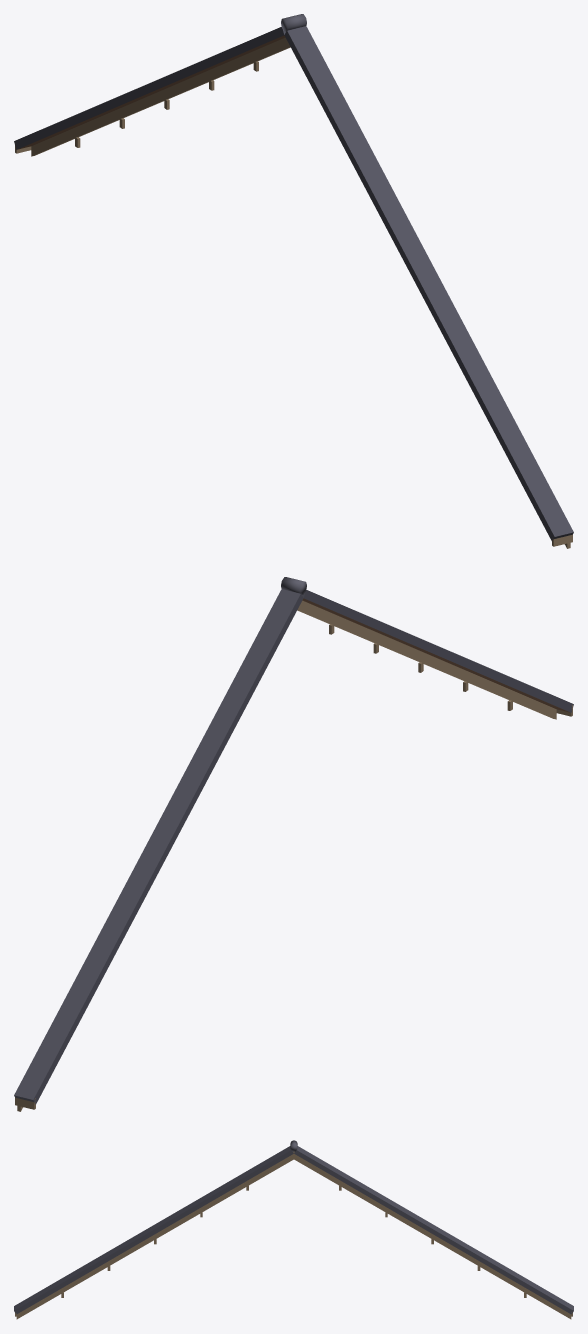
Rendered from kit_clapboard_slate_w10_end.glb.
The picture shows the model from 3 angles, top to bottom: view 1: azimuth 30°, elevation 25°; view 2: azimuth 150°, elevation 25°; view 3: azimuth 270°, elevation 25°; orthographic projection. The views are drawn at different scales.
Parts seen in each view (by area): view 1: kit_clapboard_slate_w10_end; view 2: kit_clapboard_slate_w10_end; view 3: kit_clapboard_slate_w10_end.
Boxes of the visible parts, x1=… form: kit_clapboard_slate_w10_end: x1=14, y1=14, x2=573, y2=548; kit_clapboard_slate_w10_end: x1=14, y1=577, x2=573, y2=1111; kit_clapboard_slate_w10_end: x1=14, y1=1140, x2=573, y2=1319.
Bounding box in the file's own units: 0.22 × 3.68 × 10.7.
